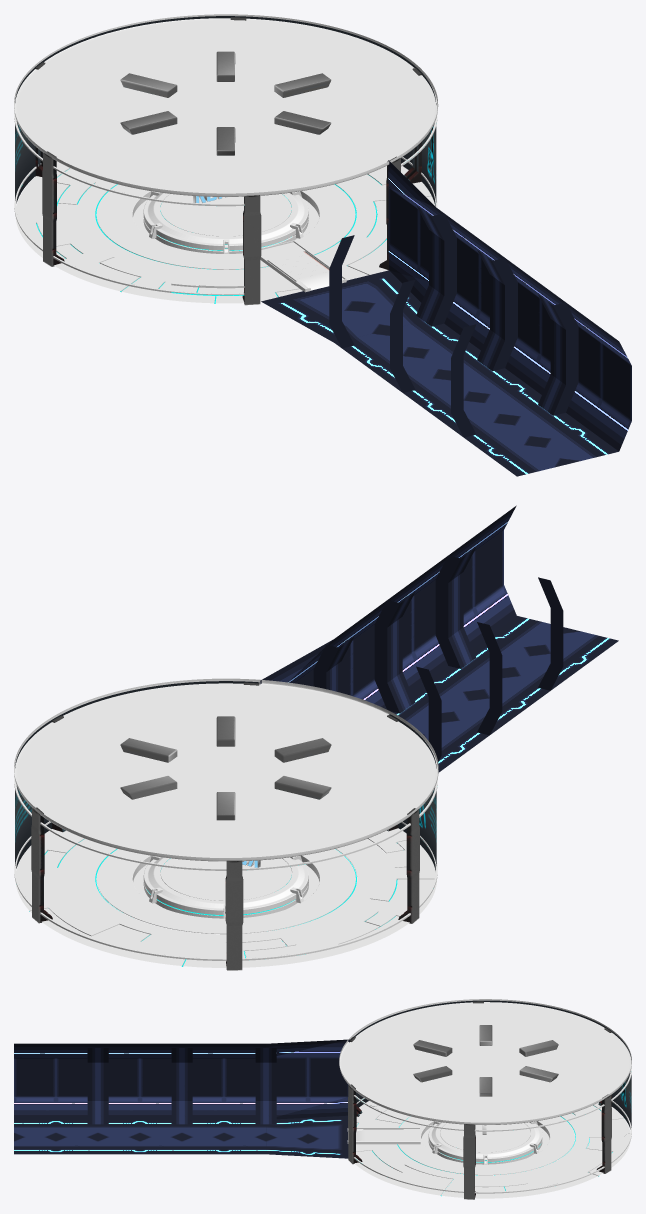
Rendered from spaceship_pc_3.glb.
The picture shows the model from 3 angles, top to bottom: view 1: azimuth 30°, elevation 25°; view 2: azimuth 150°, elevation 25°; view 3: azimuth 270°, elevation 25°; orthographic projection. The views are drawn at different scales.
Visible parts, largest first — view 1: Black_Ground_Black_0.005, Wall.007_M_Wall_0.010, Floor_M_Floor_001_0.010, Floor.003_M_Floor_002_0.009, Floor.001_M_Floor_001_0.009, Floor.002_M_Floor_001_0.009, Supports_M_Supports_0.009, Supports.001_M_Supports_0.009, Supports.002_M_Supports_0.009, Black_LightUpper_Black-Upper_0.006, Wall.004_M_Wall_0.009, Wall.006_M_Wall_0.009 (+5 smaller); view 2: Black_Ground_Black_0.005, Floor_M_Floor_001_0.010, Supports.001_M_Supports_0.009, Floor.001_M_Floor_001_0.009, Supports_M_Supports_0.009, Wall.007_M_Wall_0.010, Black_LightUpper_Black-Upper_0.006, Wall.006_M_Wall_0.009, Wall.005_M_Wall_0.009, Circle.001, Supports.002_M_Supports_0.009, Floor.002_M_Floor_001_0.009 (+4 smaller); view 3: Black_Ground_Black_0.005, Wall_M_Wall_0.010, Wall.003_M_Wall_0.009, Wall.001_M_Wall_0.009, Wall.002_M_Wall_0.009, Floor.003_M_Floor_002_0.009, Floor_M_Floor_001_0.010, Floor.001_M_Floor_001_0.009, Floor.002_M_Floor_001_0.009, Black_LightUpper_Black-Upper_0.006, Supports.001_M_Supports_0.009, Supports.002_M_Supports_0.009 (+8 smaller).
Boxes of the visible parts, x1=… form: Black_Ground_Black_0.005: x1=14, y1=14, x2=438, y2=303; Wall.007_M_Wall_0.010: x1=559, y1=297, x2=631, y2=451; Floor_M_Floor_001_0.010: x1=456, y1=410, x2=618, y2=476; Floor.003_M_Floor_002_0.009: x1=261, y1=270, x2=423, y2=342; Floor.001_M_Floor_001_0.009: x1=395, y1=365, x2=544, y2=431; Floor.002_M_Floor_001_0.009: x1=335, y1=321, x2=484, y2=387; Supports_M_Supports_0.009: x1=451, y1=295, x2=578, y2=437; Supports.001_M_Supports_0.009: x1=390, y1=250, x2=517, y2=392; Supports.002_M_Supports_0.009: x1=329, y1=205, x2=456, y2=348; Black_LightUpper_Black-Upper_0.006: x1=120, y1=51, x2=331, y2=155; Wall.004_M_Wall_0.009: x1=388, y1=160, x2=439, y2=302; Wall.006_M_Wall_0.009: x1=498, y1=253, x2=561, y2=394; Black_Ground_Black_0.005: x1=14, y1=678, x2=438, y2=967; Floor_M_Floor_001_0.010: x1=469, y1=616, x2=618, y2=684; Supports.001_M_Supports_0.009: x1=374, y1=592, x2=502, y2=735; Floor.001_M_Floor_001_0.009: x1=408, y1=663, x2=557, y2=729; Supports_M_Supports_0.009: x1=435, y1=548, x2=563, y2=690; Wall.007_M_Wall_0.010: x1=452, y1=505, x2=516, y2=647; Black_LightUpper_Black-Upper_0.006: x1=120, y1=716, x2=331, y2=820; Wall.006_M_Wall_0.009: x1=392, y1=550, x2=455, y2=692; Wall.005_M_Wall_0.009: x1=331, y1=595, x2=394, y2=709; Circle.001: x1=15, y1=681, x2=436, y2=870; Supports.002_M_Supports_0.009: x1=313, y1=637, x2=441, y2=761; Floor.002_M_Floor_001_0.009: x1=391, y1=708, x2=496, y2=772; Black_Ground_Black_0.005: x1=339, y1=999, x2=631, y2=1198; Wall_M_Wall_0.010: x1=14, y1=1043, x2=97, y2=1119; Wall.003_M_Wall_0.009: x1=266, y1=1039, x2=349, y2=1119; Wall.001_M_Wall_0.009: x1=98, y1=1043, x2=181, y2=1119; Wall.002_M_Wall_0.009: x1=182, y1=1043, x2=265, y2=1119; Floor.003_M_Floor_002_0.009: x1=266, y1=1115, x2=348, y2=1158; Floor_M_Floor_001_0.010: x1=14, y1=1120, x2=97, y2=1154; Floor.001_M_Floor_001_0.009: x1=98, y1=1120, x2=181, y2=1154; Floor.002_M_Floor_001_0.009: x1=182, y1=1120, x2=265, y2=1154; Black_LightUpper_Black-Upper_0.006: x1=413, y1=1025, x2=558, y2=1096; Supports.001_M_Supports_0.009: x1=171, y1=1048, x2=192, y2=1124; Supports.002_M_Supports_0.009: x1=255, y1=1048, x2=276, y2=1124.
Bounding box in the file's own units: 39.93 × 12.38 × 83.89.
Materials: 17 (11 with a texture image).
